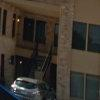Car: (10, 72, 50, 98)
